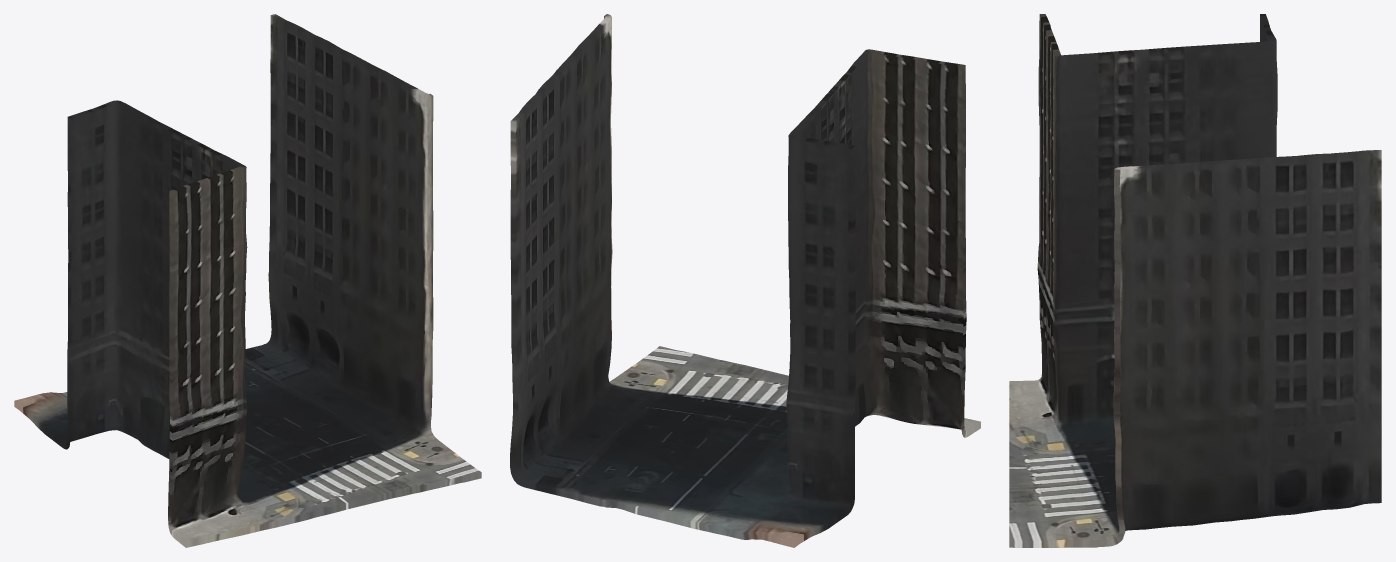
The model's file is z20-167764-405237-h0-yup-uvflip-v3-world.glb.
The picture shows the model from 3 angles, left to right: view 1: azimuth 30°, elevation 25°; view 2: azimuth 150°, elevation 25°; view 3: azimuth 270°, elevation 25°; orthographic projection. The views are drawn at different scales.
Size of the model in its own units: 30.16 by 33.88 by 30.32.
Materials: 1 (1 with a texture image).
